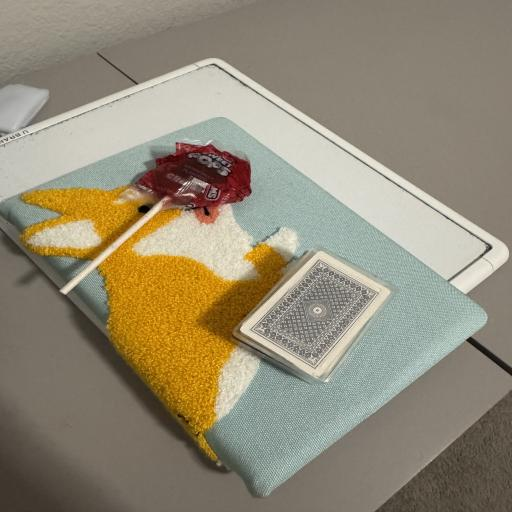chocolate: (120, 141, 251, 208)
